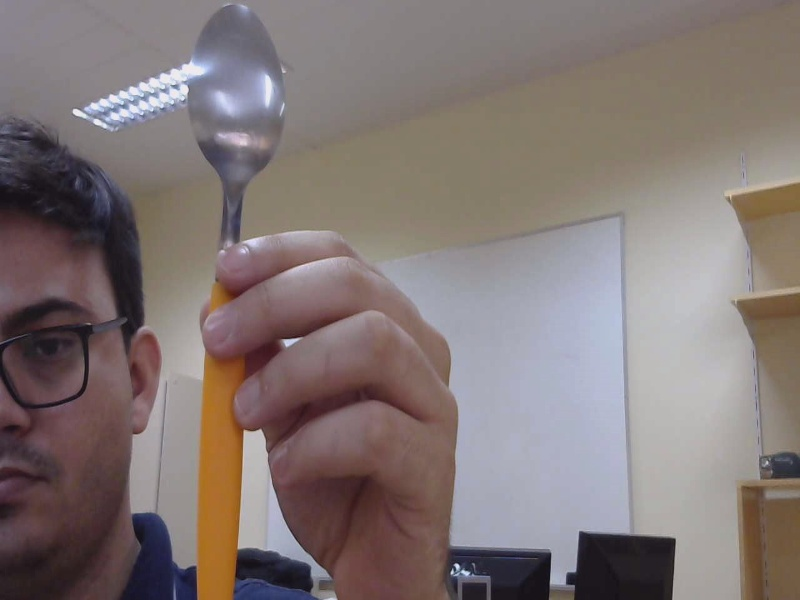cuchara: (147, 8, 287, 600)
